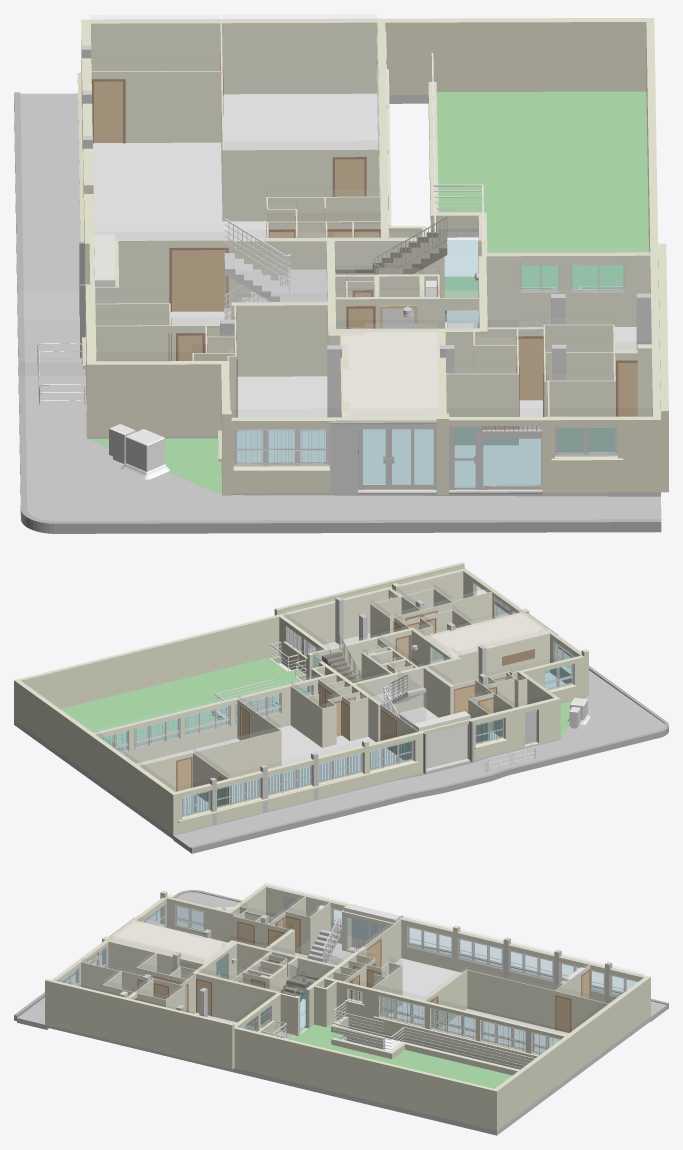
3 renders of one model, top to bottom at view 1: azimuth 30°, elevation 25°; view 2: azimuth 150°, elevation 25°; view 3: azimuth 270°, elevation 25°, orthographic. The views are drawn at different scales.
Parts seen in each view (by area): view 1: 3RLTfSMBXE_BWgA7WbvgjJ, 2UhhXCNCjF1xC3dyjbG$SE, 1IQJpSU49DlPKPMYhdab9h, 0JJqPutQD7fgEmZfe5WIOV, 0JJqPutQD7fgEmZfq5WIOV, 0JJqPutQD7fgEmZfe5WIGF, 3RLTfSMBXE_BWgA7WbvgI5, 3RLTfSMBXE_BWgA7Wbvgna, 1ESEB1nMzCOBvAGWBX1s_l, 39uIX2bPb5O85hAciSCCyz, 33ktarrbzBUOiXnLe84g54, 33ktarrbzBUOiXnLe84gQJ (+77 smaller); view 2: 3RLTfSMBXE_BWgA7Wbvgs$, 1IQJpSU49DlPKPMYhdab9h, 3RLTfSMBXE_BWgA7WbvgjJ, 2UhhXCNCjF1xC3dyjbG$SE, 0UJqou9f1FzfLKdgHitGMX, 0JJqPutQD7fgEmZfe5WIOV, 1r7kD2unvCQ8TNvjz6uykQ, 0JJqPutQD7fgEmZfq5WIOV, 33ktarrbzBUOiXnLe84g42, 0UJqou9f1FzfLKdgHitGMY, 059zzJJCT0Ohc6bi$ICakr, 1ESEB1nMzCOBvAGWBX1s_l (+71 smaller); view 3: 3RLTfSMBXE_BWgA7Wbvgs$, 321EIHH0v8KOO2s9RjdAGp, 3RLTfSMBXE_BWgA7WbvgjJ, 0UJqou9f1FzfLKdgHitGMY, 33ktarrbzBUOiXnLe84g42, 2UhhXCNCjF1xC3dyjbG$SE, 1r7kD2unvCQ8TNvjz6uykQ, 3RLTfSMBXE_BWgA7Wbvfa1, 1IQJpSU49DlPKPMYhdab9h, 1ESEB1nMzCOBvAGWBX1s_l, 3RLTfSMBXE_BWgA7WbvgM$, 062GBg_KDDO8mSK4_Ox43e (+72 smaller).
Boxes of the visible parts, bbox=[...] form: 3RLTfSMBXE_BWgA7WbvgjJ: bbox=[90, 18, 646, 95]; 2UhhXCNCjF1xC3dyjbG$SE: bbox=[93, 93, 636, 486]; 1IQJpSU49DlPKPMYhdab9h: bbox=[436, 91, 648, 298]; 0JJqPutQD7fgEmZfe5WIOV: bbox=[25, 376, 221, 520]; 0JJqPutQD7fgEmZfq5WIOV: bbox=[20, 93, 80, 290]; 0JJqPutQD7fgEmZfe5WIGF: bbox=[18, 374, 661, 533]; 3RLTfSMBXE_BWgA7WbvgI5: bbox=[96, 361, 229, 437]; 3RLTfSMBXE_BWgA7Wbvgna: bbox=[481, 252, 650, 327]; 1ESEB1nMzCOBvAGWBX1s_l: bbox=[341, 332, 438, 417]; 39uIX2bPb5O85hAciSCCyz: bbox=[487, 247, 649, 334]; 33ktarrbzBUOiXnLe84g54: bbox=[91, 71, 221, 142]; 33ktarrbzBUOiXnLe84gQJ: bbox=[224, 149, 379, 221]; 3RLTfSMBXE_BWgA7Wbvgs$: bbox=[14, 568, 466, 721]; 1IQJpSU49DlPKPMYhdab9h: bbox=[60, 655, 308, 746]; 3RLTfSMBXE_BWgA7WbvgjJ: bbox=[16, 680, 174, 832]; 2UhhXCNCjF1xC3dyjbG$SE: bbox=[136, 633, 565, 814]; 0UJqou9f1FzfLKdgHitGMX: bbox=[96, 695, 279, 761]; 0JJqPutQD7fgEmZfe5WIOV: bbox=[490, 690, 665, 768]; 1r7kD2unvCQ8TNvjz6uykQ: bbox=[94, 685, 287, 763]; 0JJqPutQD7fgEmZfq5WIOV: bbox=[173, 781, 409, 852]; 33ktarrbzBUOiXnLe84g42: bbox=[139, 730, 281, 791]; 0UJqou9f1FzfLKdgHitGMY: bbox=[194, 682, 417, 764]; 059zzJJCT0Ohc6bi$ICakr: bbox=[467, 697, 560, 760]; 1ESEB1nMzCOBvAGWBX1s_l: bbox=[427, 614, 548, 656]; 3RLTfSMBXE_BWgA7Wbvgs$: bbox=[234, 1026, 498, 1130]; 321EIHH0v8KOO2s9RjdAGp: bbox=[45, 979, 234, 1069]; 3RLTfSMBXE_BWgA7WbvgjJ: bbox=[495, 978, 648, 1128]; 0UJqou9f1FzfLKdgHitGMY: bbox=[357, 915, 588, 1007]; 33ktarrbzBUOiXnLe84g42: bbox=[467, 969, 608, 1030]; 2UhhXCNCjF1xC3dyjbG$SE: bbox=[194, 943, 568, 1052]; 1r7kD2unvCQ8TNvjz6uykQ: bbox=[372, 989, 566, 1066]; 3RLTfSMBXE_BWgA7Wbvfa1: bbox=[47, 1016, 650, 1135]; 1IQJpSU49DlPKPMYhdab9h: bbox=[286, 1020, 512, 1088]; 1ESEB1nMzCOBvAGWBX1s_l: bbox=[111, 921, 231, 962]; 3RLTfSMBXE_BWgA7WbvgM$: bbox=[196, 972, 278, 1025]; 062GBg_KDDO8mSK4_Ox43e: bbox=[269, 898, 393, 954].
Bounding box in the file's own units: 32.78 × 4.51 × 37.66.
